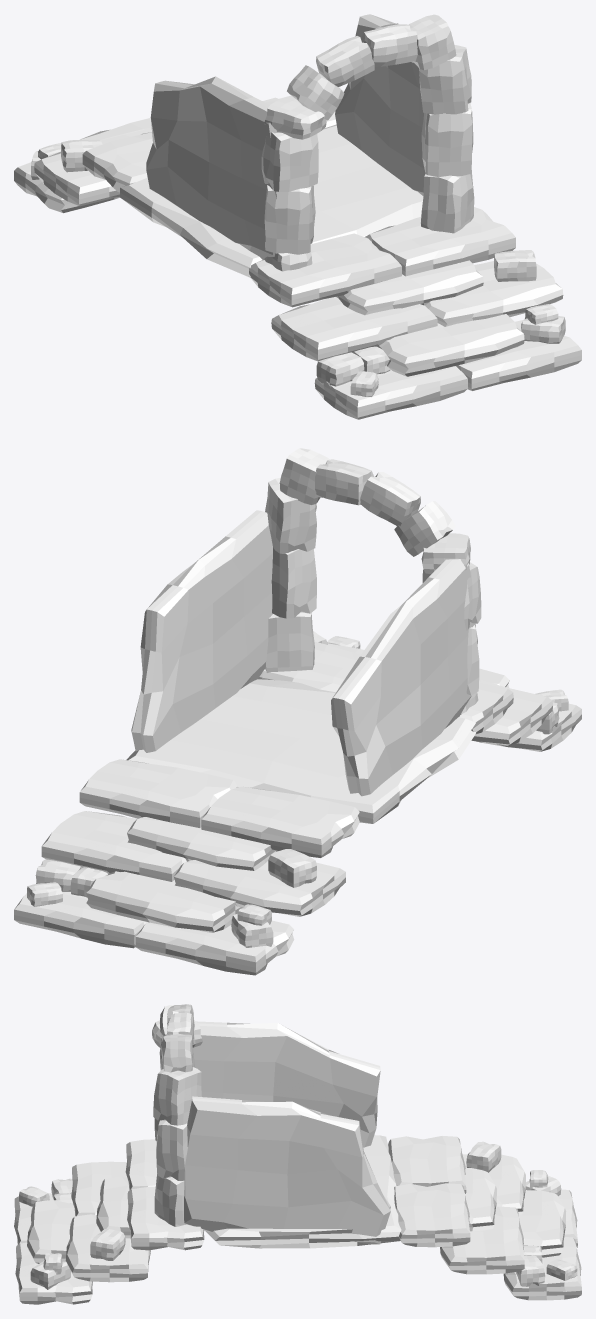
Rendered from SteinDurchgang.fbx.
The picture shows the model from 3 angles, top to bottom: view 1: azimuth 30°, elevation 25°; view 2: azimuth 150°, elevation 25°; view 3: azimuth 270°, elevation 25°; orthographic projection. The views are drawn at different scales.
Visible parts, largest first — view 1: Steinblock.048; view 2: Steinblock.048; view 3: Steinblock.048.
Part boxes in pixels (x1,y1,x2,y2): Steinblock.048: (14, 14, 581, 419); Steinblock.048: (14, 448, 581, 975); Steinblock.048: (14, 1004, 581, 1304).
Size of the model in its own units: 1122 by 1150 by 2402.
